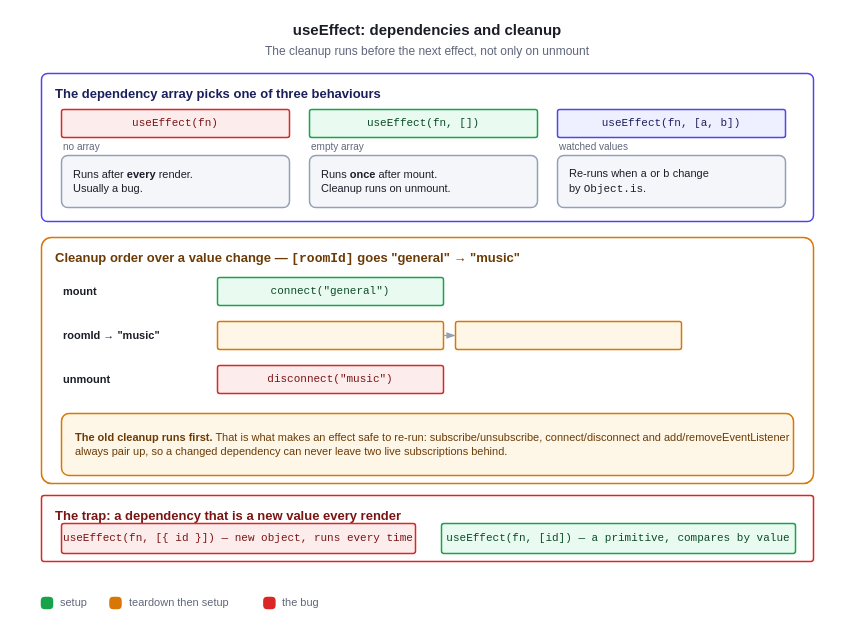
The diagram is 854 pixels wide and 628 high, and some of its shapes have lost their labels. The shapes that lost their labels are listed below. From the top down, each one's centre as x and y in pixels, then its label:
pixel 330 335: disconnect("general")
pixel 568 335: connect("music")
